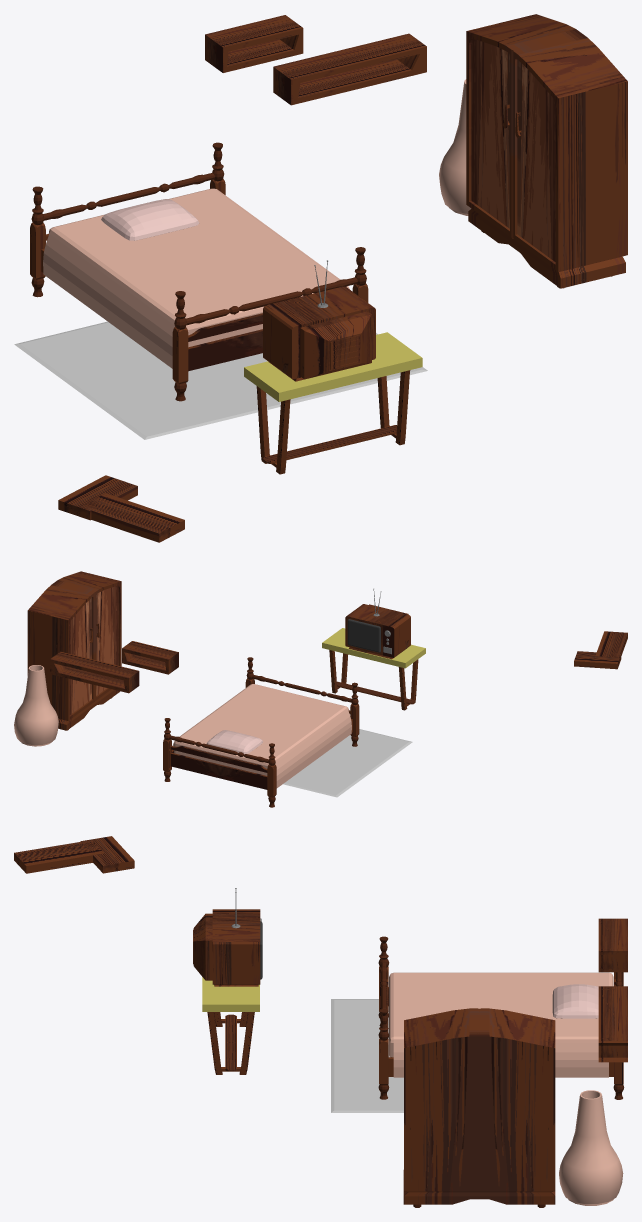
File: Quarto3.fbx
3 views of the same model, one above another, from view 1: azimuth 30°, elevation 25°; view 2: azimuth 150°, elevation 25°; view 3: azimuth 270°, elevation 25° (orthographic). The views are drawn at different scales.
Parts seen in each view (by area): view 1: Guarda_Roupa, Colchão, Tapete, Cube.007, TV, MesaTV, Cama.001, Cube.006, Cube.012, Almofada, Vaso; view 2: Guarda_Roupa, Colchão, Tapete, Cube.007, Cama.001, TV, MesaTV, Vaso, Cube.012, Cube.006, Almofada; view 3: Guarda_Roupa, Colchão, Tapete, TV, Vaso, Cube.007, MesaTV, Cube.006, Cube.012, Almofada, Cama.001.
Part boxes in pixels (bbox=[...]): Guarda_Roupa: bbox=[466, 14, 627, 288]; Colchão: bbox=[43, 188, 349, 368]; Tapete: bbox=[14, 321, 427, 439]; Cube.007: bbox=[205, 15, 426, 105]; TV: bbox=[263, 260, 375, 381]; MesaTV: bbox=[244, 332, 422, 474]; Cama.001: bbox=[41, 173, 357, 371]; Cube.006: bbox=[58, 475, 184, 542]; Cube.012: bbox=[30, 142, 368, 401]; Almofada: bbox=[101, 199, 199, 240]; Vaso: bbox=[439, 79, 471, 215]; Guarda_Roupa: bbox=[27, 571, 121, 730]; Colchão: bbox=[172, 684, 351, 788]; Tapete: bbox=[283, 729, 412, 797]; Cube.007: bbox=[50, 641, 178, 693]; Cama.001: bbox=[169, 674, 352, 789]; TV: bbox=[345, 588, 410, 659]; MesaTV: bbox=[322, 628, 425, 710]; Vaso: bbox=[14, 665, 58, 746]; Cube.012: bbox=[163, 657, 359, 807]; Cube.006: bbox=[574, 631, 627, 669]; Almofada: bbox=[206, 730, 262, 754]; Guarda_Roupa: bbox=[403, 1008, 555, 1207]; Colchão: bbox=[389, 972, 613, 1077]; Tapete: bbox=[331, 999, 403, 1112]; TV: bbox=[193, 888, 262, 986]; Vaso: bbox=[559, 1090, 623, 1205]; Cube.007: bbox=[598, 918, 627, 1062]; MesaTV: bbox=[202, 977, 259, 1074]; Cube.006: bbox=[14, 836, 134, 873]; Cube.012: bbox=[378, 936, 624, 1099]; Almofada: bbox=[552, 984, 598, 1018]; Cama.001: bbox=[380, 962, 622, 1076].
Bounding box in the file's own units: 845 × 232 × 730.
